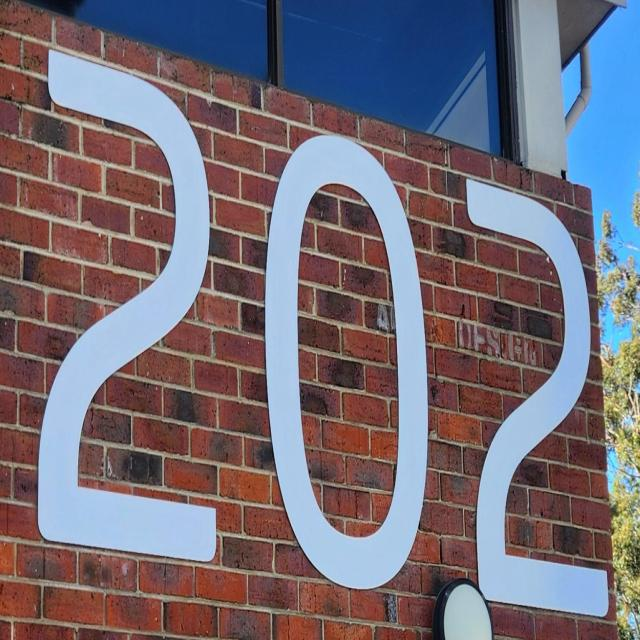character: (34, 46, 219, 567), (263, 130, 431, 592), (465, 176, 611, 621)
